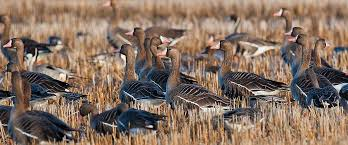goose: (5, 61, 78, 145), (163, 45, 229, 127), (209, 39, 290, 102), (9, 37, 71, 100), (101, 1, 187, 46), (290, 33, 338, 108), (76, 101, 168, 138), (118, 43, 166, 112), (1, 13, 55, 62), (273, 6, 332, 49), (221, 14, 278, 55), (213, 94, 268, 133), (314, 34, 348, 90), (282, 27, 324, 65), (151, 33, 165, 87), (130, 24, 145, 71), (145, 37, 154, 78)
